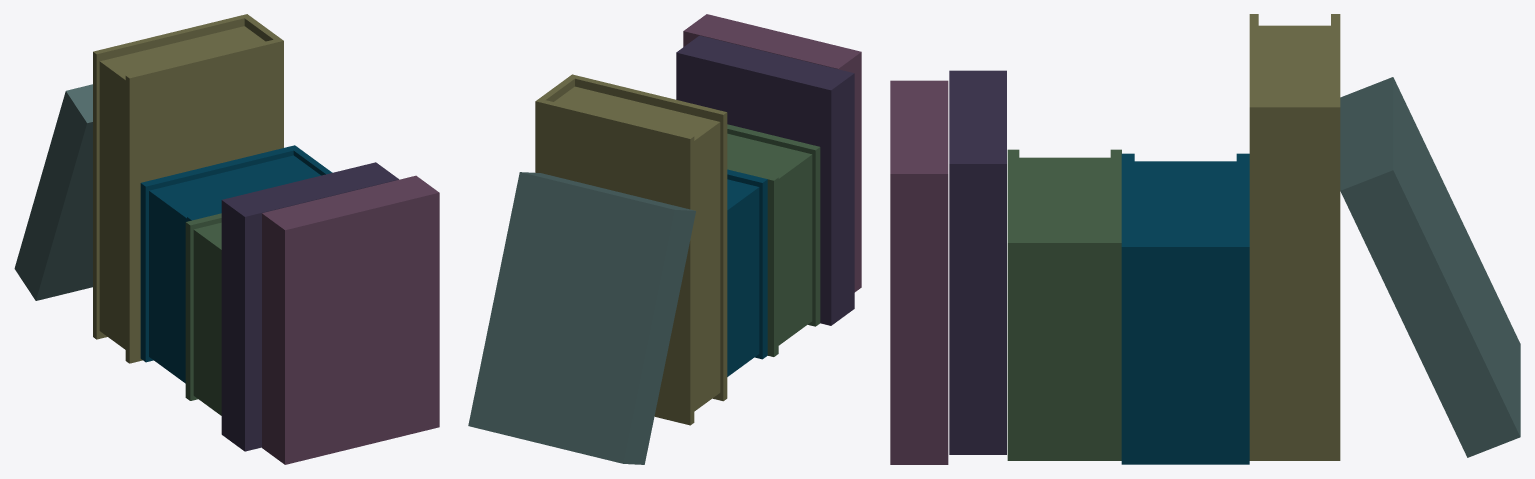
The model's file is book_bundle_1.fbx.
The picture shows the model from 3 angles, left to right: view 1: azimuth 30°, elevation 25°; view 2: azimuth 150°, elevation 25°; view 3: azimuth 270°, elevation 25°; orthographic projection. The views are drawn at different scales.
Visible parts, largest first — view 1: Book_1, Book_5, Book_4, Book_2, Book_6, Book_3; view 2: Book_6, Book_5, Book_2, Book_3, Book_4, Book_1; view 3: Book_5, Book_4, Book_3, Book_6, Book_1, Book_2.
Part boxes in pixels (<box>): Book_1: <box>262,175,439,464</box>; Book_5: <box>93,14,283,363</box>; Book_4: <box>140,145,332,383</box>; Book_2: <box>221,162,398,451</box>; Book_6: <box>14,84,92,300</box>; Book_3: <box>185,213,221,415</box>; Book_6: <box>468,172,695,464</box>; Book_5: <box>535,74,727,425</box>; Book_2: <box>676,35,854,325</box>; Book_3: <box>727,124,820,356</box>; Book_4: <box>727,169,767,376</box>; Book_1: <box>683,14,861,292</box>; Book_5: <box>1249,14,1340,460</box>; Book_4: <box>1121,153,1249,464</box>; Book_3: <box>1007,149,1121,460</box>; Book_6: <box>1340,77,1520,457</box>; Book_1: <box>890,80,948,464</box>; Book_2: <box>949,70,1006,454</box>.
Bounding box in the file's own units: 95.31 × 152 × 245.
